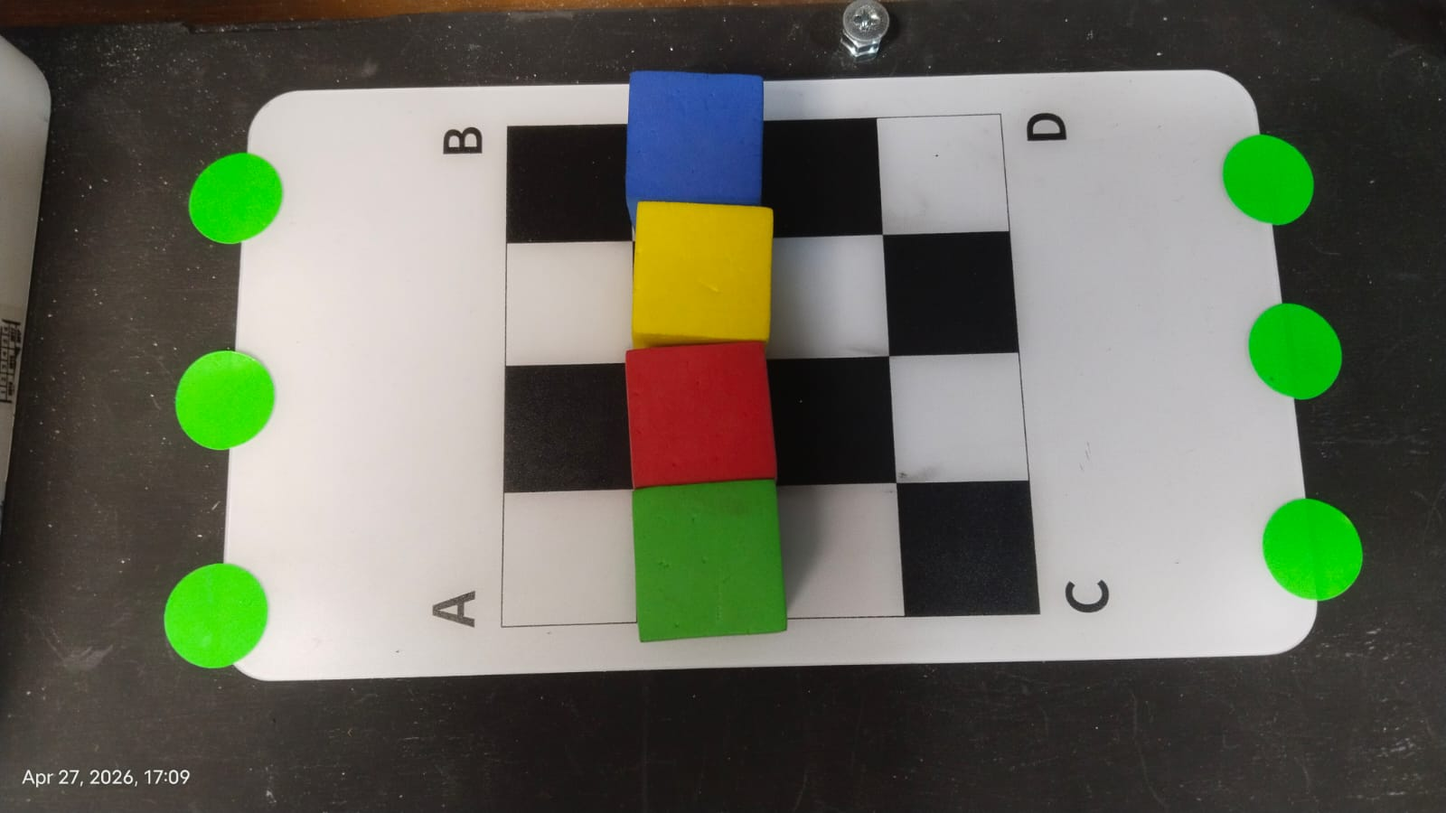blue: (618, 62, 778, 222)
green: (616, 478, 808, 644)
red: (610, 329, 789, 491)
yellow: (624, 190, 780, 348)
